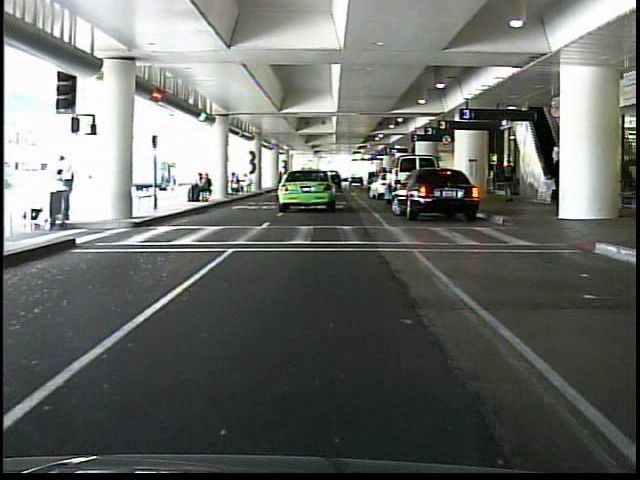person: (50, 153, 83, 230), (500, 158, 518, 206)
